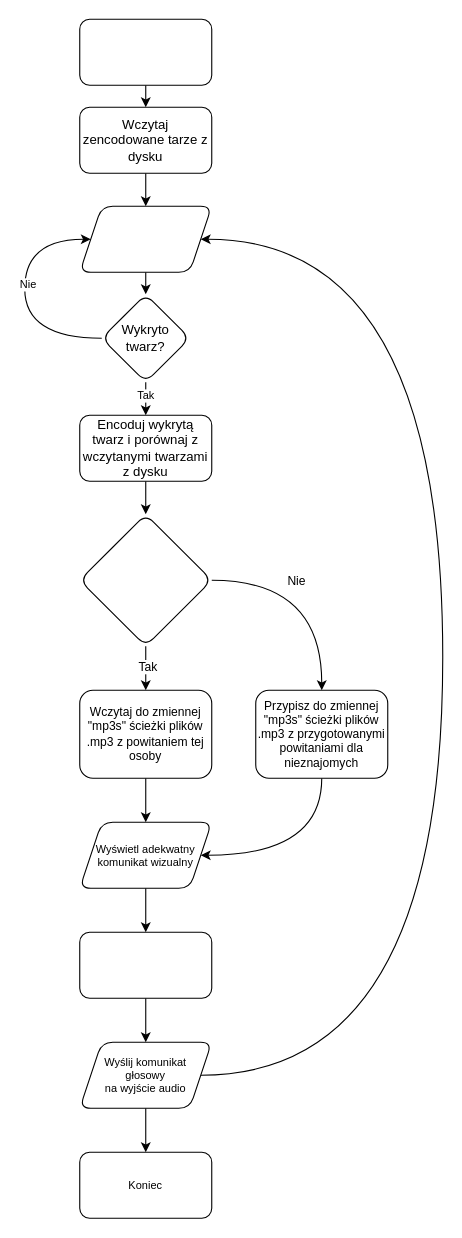
This 462x1238 diagram has some shape labels left out. The shapes that lost their labels are listed below. From the top down, each one's box as (x1, y1, x2, y2) in pixels, then its label:
(79, 18, 212, 85): Start
(79, 205, 212, 272): Skanuj otoczenie
(79, 513, 212, 646): Znaleziono twarz w bazie?
(79, 931, 212, 998): Wylosuj jedną scieżkę .mp3
